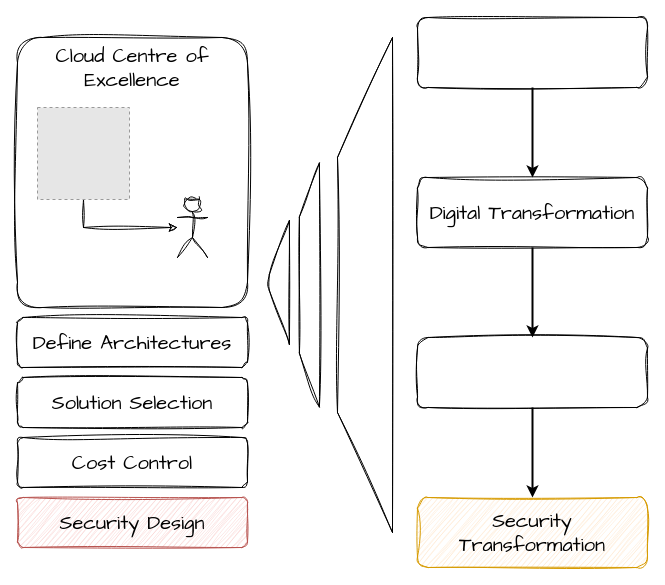
Some shapes in this 665 by 585 pixel diagram are drawn without their labels. Grey dashed boxes stand in for pictures. Here are the shapes that lost their labels. From the top down, the centre of each, then its label:
At point 532,52: "Market Transformation".
At point 192,227: "Security Champion".
At point 532,372: "IT Transformation".
